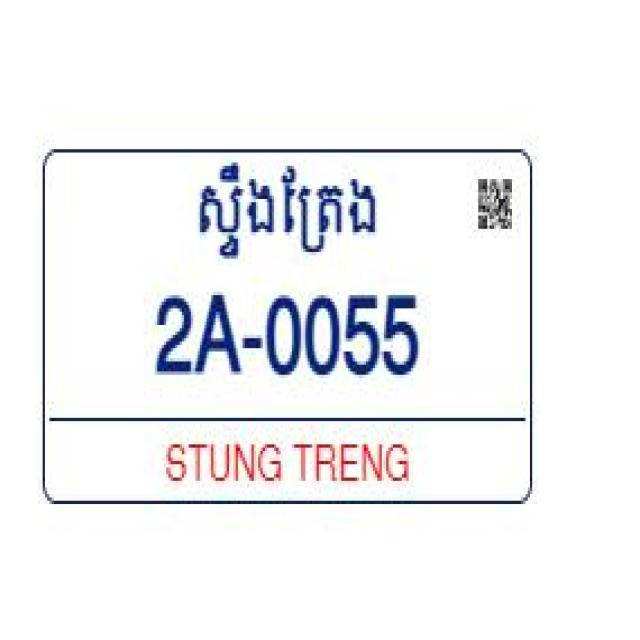Stung_Treng: (198, 156, 380, 270)
